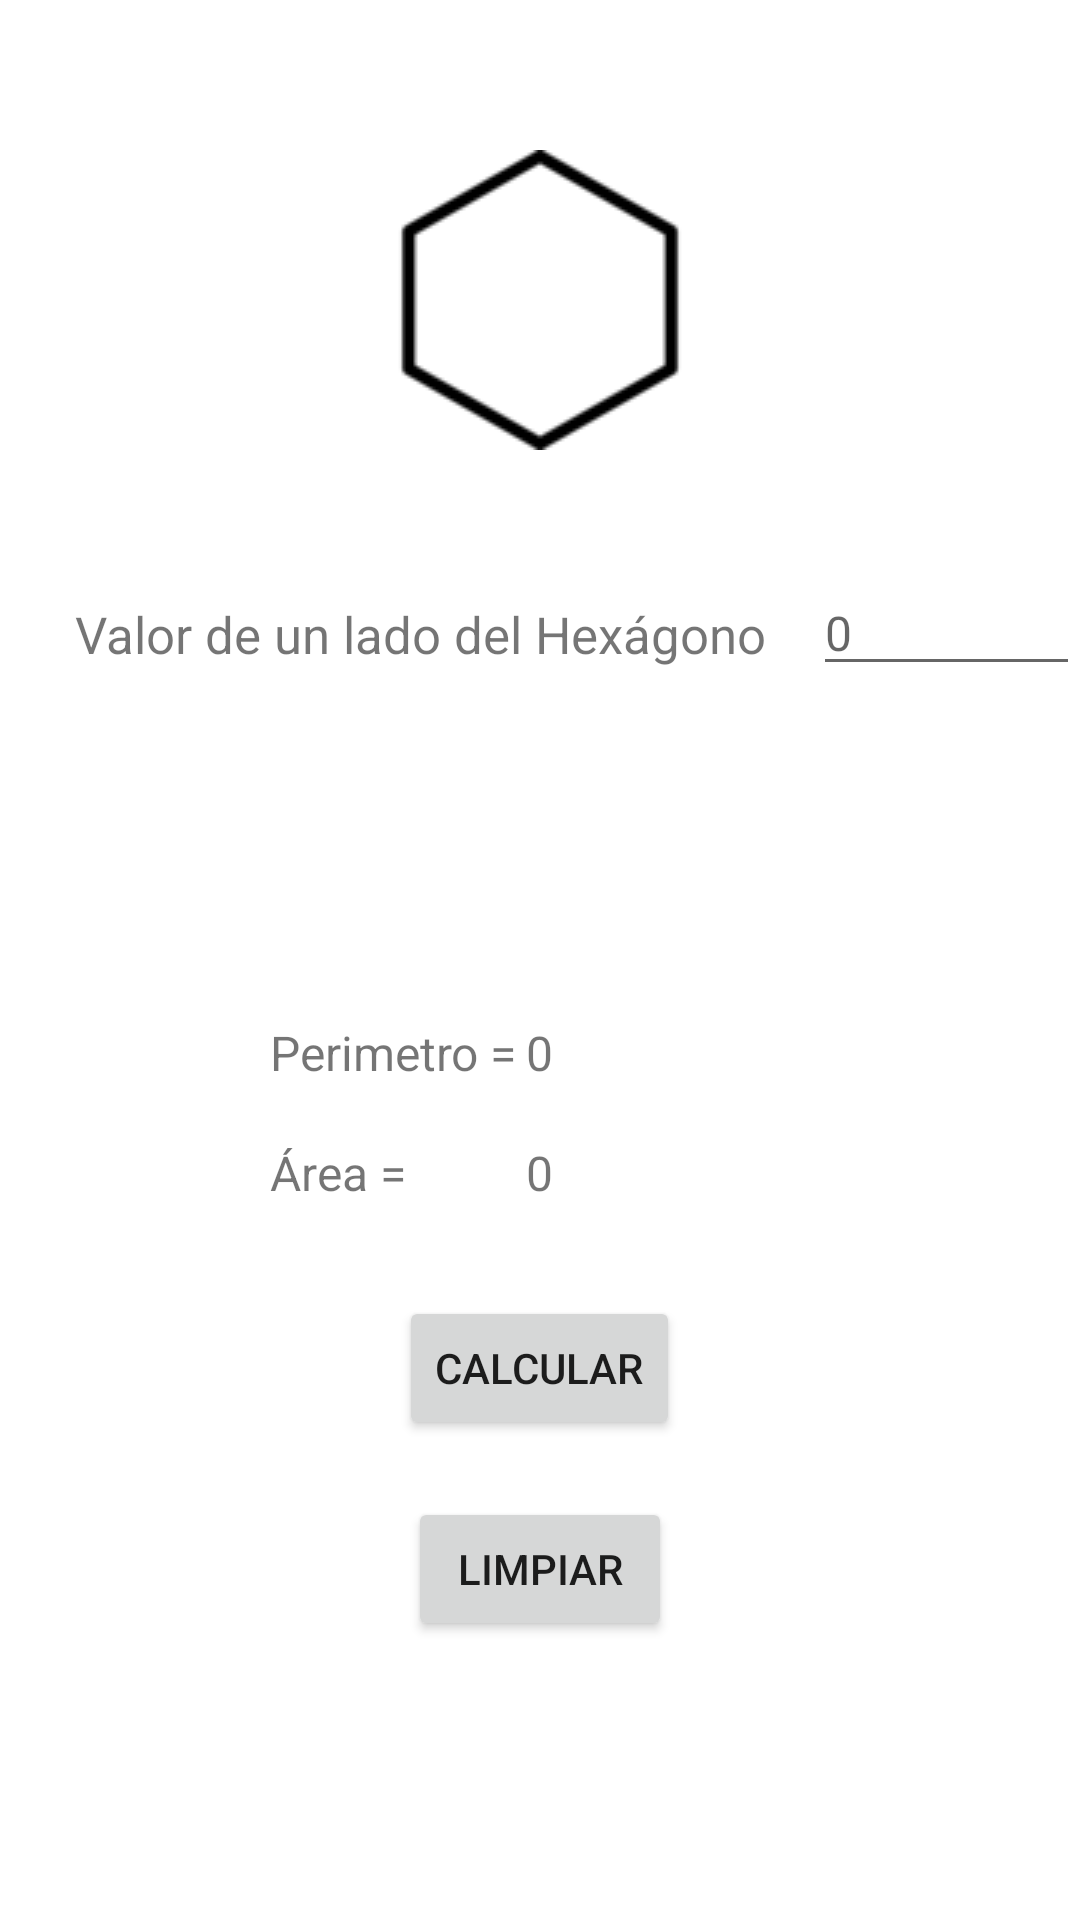

Named icons in this screenshot (1080x1920) and their bounding boxes, BBox(x1, y1, x2, y2):
hexagono: BBox(401, 150, 679, 450)
